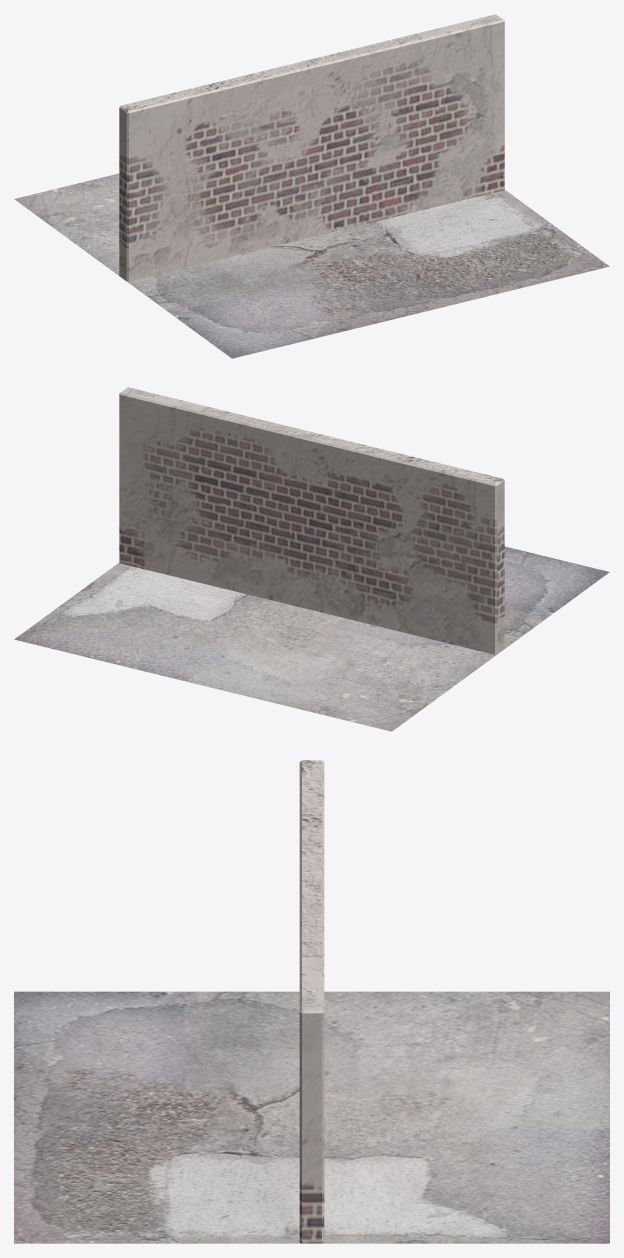
Rendered from Small Wall.fbx.
3 renders of one model, top to bottom at view 1: azimuth 30°, elevation 25°; view 2: azimuth 150°, elevation 25°; view 3: azimuth 270°, elevation 25°, orthographic. The views are drawn at different scales.
Visible parts, largest first — view 1: wall; view 2: wall; view 3: wall.
Part boxes in pixels (x1,y1,x2,y2): wall: (14,14,609,358); wall: (14,387,609,731); wall: (14,760,609,1243).
Size of the model in its own units: 5 by 2.15 by 5.
1 material, 1 textured.
